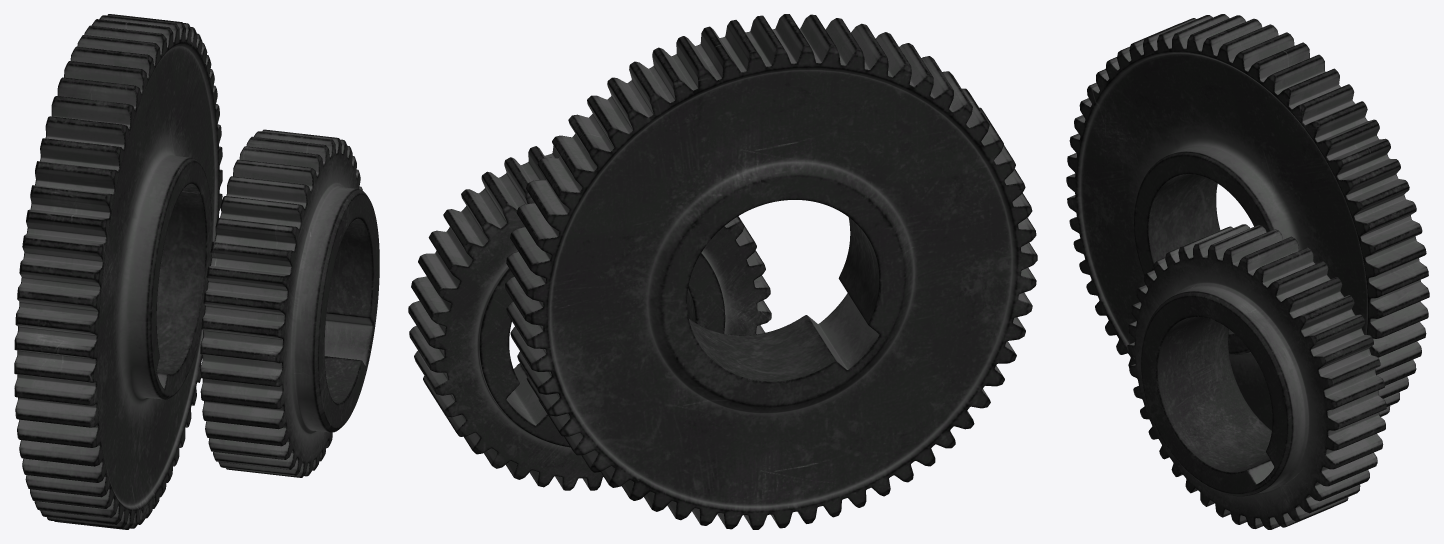
File: 2-Gears.FBX
3 renders of one model, left to right at view 1: azimuth 30°, elevation 25°; view 2: azimuth 150°, elevation 25°; view 3: azimuth 270°, elevation 25°, orthographic. The views are drawn at different scales.
Visible parts, largest first — view 1: Gear-2, Gear-1; view 2: Gear-2, Gear-1; view 3: Gear-2, Gear-1.
Boxes of the visible parts, bbox=[...] form: Gear-2: bbox=[14, 14, 222, 529]; Gear-1: bbox=[200, 129, 379, 477]; Gear-2: bbox=[505, 14, 1037, 529]; Gear-1: bbox=[408, 146, 771, 490]; Gear-2: bbox=[1066, 14, 1429, 430]; Gear-1: bbox=[1127, 224, 1386, 529].
Bounding box in the file's own units: 7.7 × 7.15 × 5.79.
